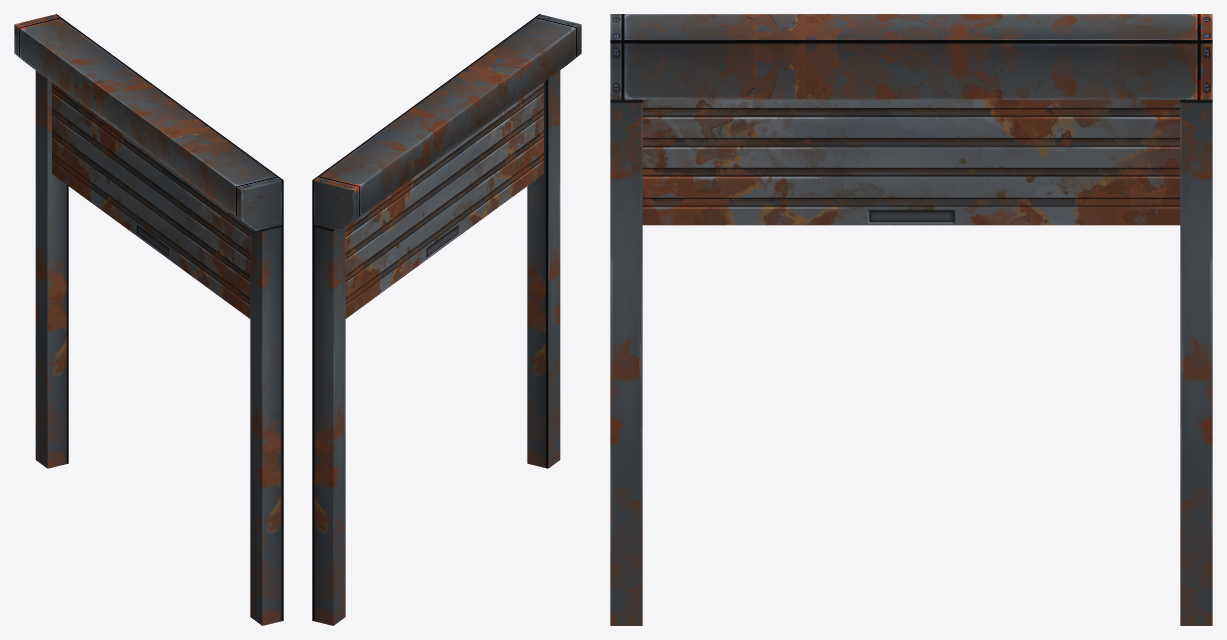
The model's file is rollerShutter04_3m.fbx.
The picture shows the model from 3 angles, left to right: view 1: azimuth 30°, elevation 25°; view 2: azimuth 150°, elevation 25°; view 3: azimuth 270°, elevation 25°; orthographic projection. The views are drawn at different scales.
Visible parts, largest first — view 1: rollerShutter04_3m; view 2: rollerShutter04_3m; view 3: rollerShutter04_3m.
Boxes of the visible parts, left/top/right/bottom form: rollerShutter04_3m: left=14, top=14, right=283, bottom=625; rollerShutter04_3m: left=312, top=14, right=581, bottom=625; rollerShutter04_3m: left=610, top=14, right=1212, bottom=625.
Bounding box in the file's own units: 30 × 300 × 280.
